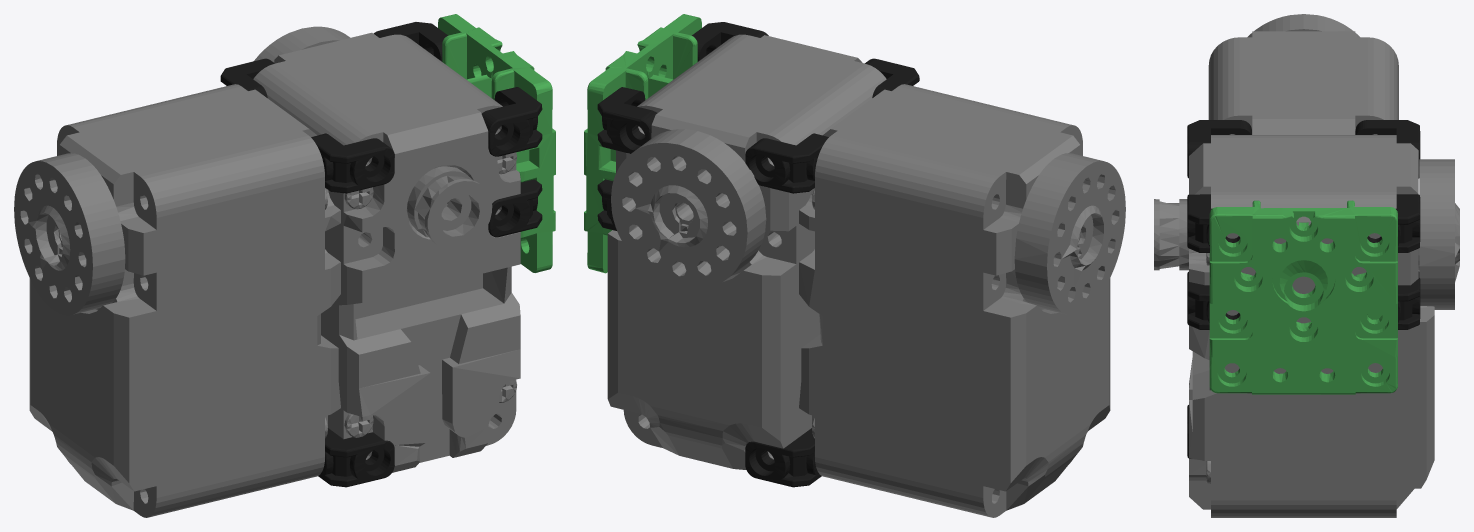
The model's file is bone21.DAE.
The picture shows the model from 3 angles, left to right: view 1: azimuth 30°, elevation 25°; view 2: azimuth 150°, elevation 25°; view 3: azimuth 270°, elevation 25°; orthographic projection. The views are drawn at different scales.
Visible parts, largest first — view 1: through_all_screw_holes (×2), Imported1 (×7), screw_holes (×2), O3.0__3__Diameter_Hole1; view 2: through_all_screw_holes (×2), screw_holes (×2), Imported1 (×7); view 3: through_all_screw_holes (×2), Imported1 (×7), screw_holes (×2), O3.0__3__Diameter_Hole1.
Boxes of the visible parts, x1=… form: through_all_screw_holes (×2): x1=29, y1=32, x2=520, y2=517; Imported1 (×7): x1=220, y1=14, x2=555, y2=487; screw_holes (×2): x1=14, y1=26, x2=350, y2=315; O3.0__3__Diameter_Hole1: x1=407, y1=166, x2=492, y2=250; through_all_screw_holes (×2): x1=607, y1=34, x2=1110, y2=517; screw_holes (×2): x1=611, y1=129, x2=1125, y2=315; Imported1 (×7): x1=584, y1=14, x2=919, y2=487; through_all_screw_holes (×2): x1=1189, y1=31, x2=1434, y2=517; Imported1 (×7): x1=1187, y1=120, x2=1420, y2=394; screw_holes (×2): x1=1247, y1=14, x2=1459, y2=309; O3.0__3__Diameter_Hole1: x1=1154, y1=199, x2=1188, y2=270.
Size of the model in its own units: 63.7 by 38.6 by 46.05.
